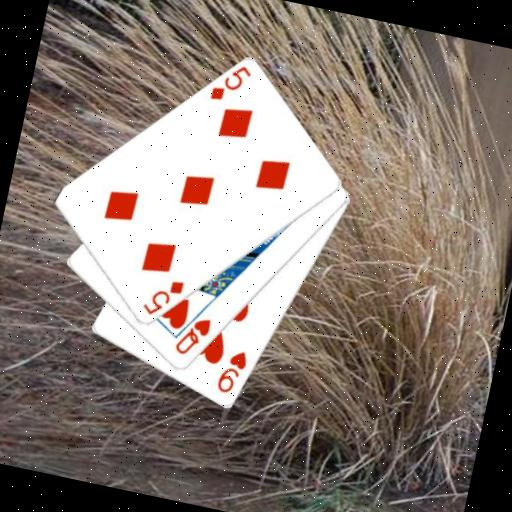5D: (205, 56, 254, 108), (138, 271, 187, 322)
9H: (212, 344, 251, 398)
QH: (170, 310, 214, 362)
